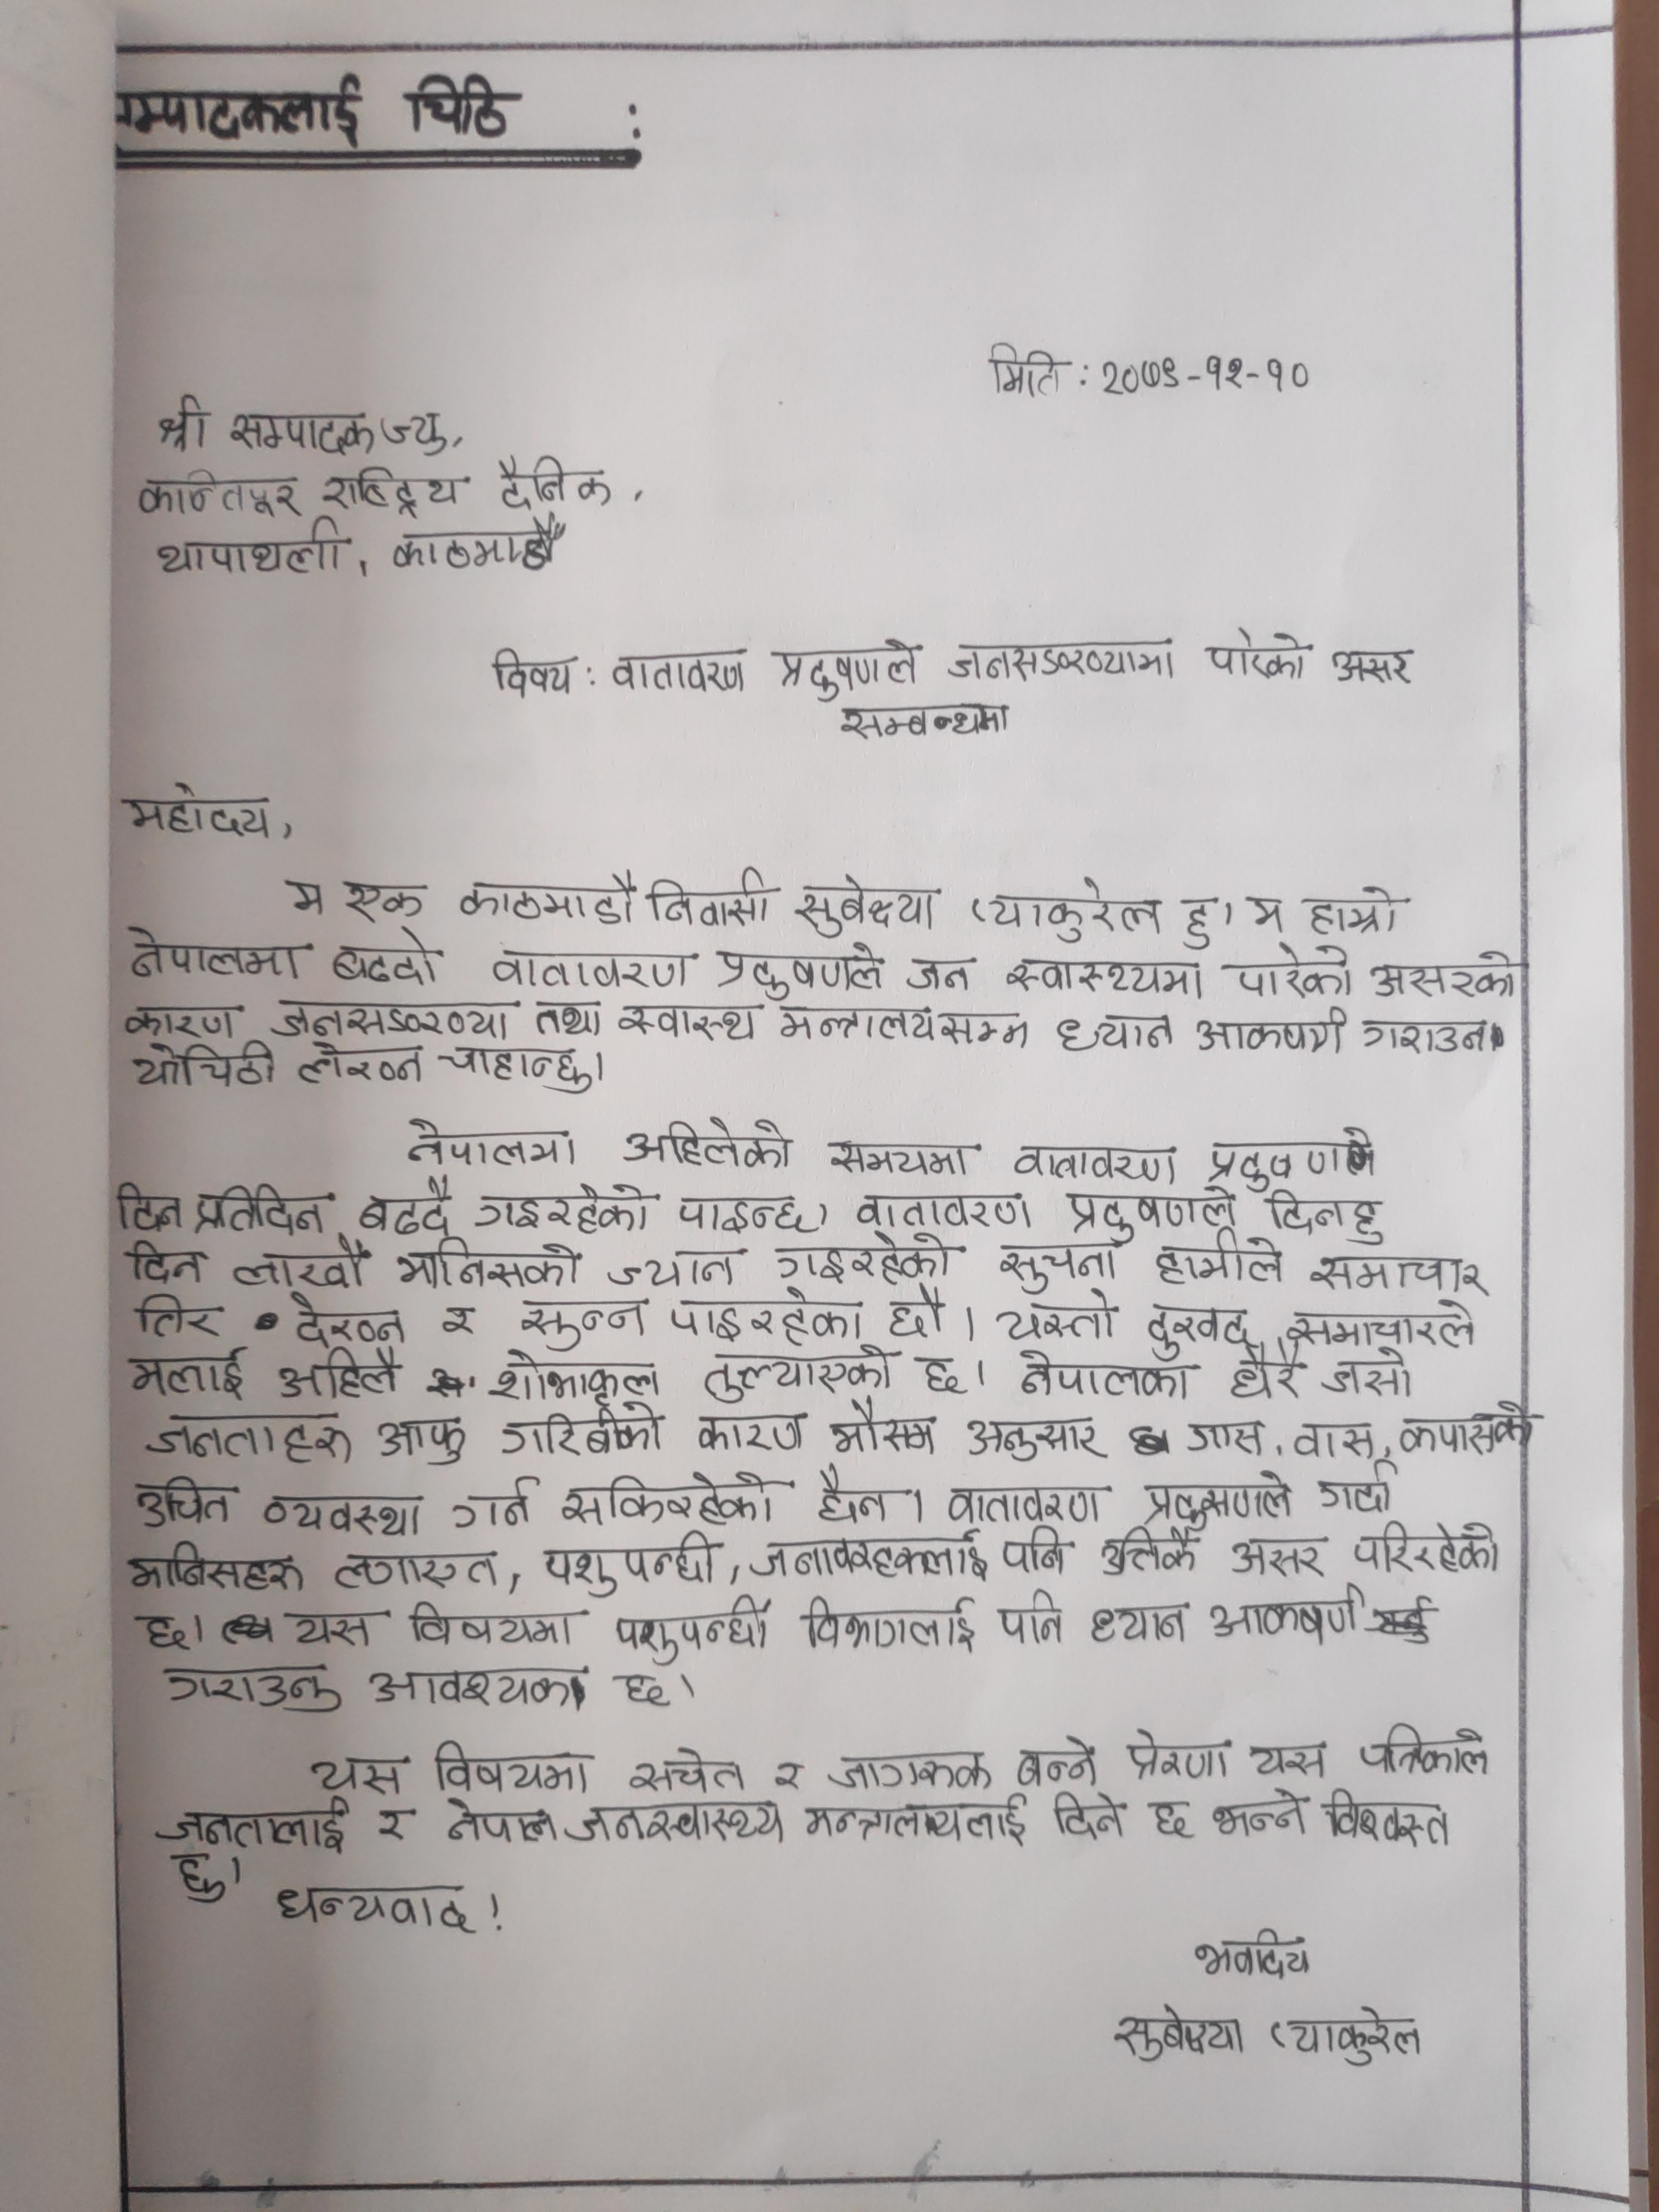chicken noodle soup: (106, 71, 366, 146), (964, 878, 1162, 946), (148, 523, 354, 580), (943, 634, 1183, 683), (389, 514, 572, 573), (1098, 352, 1310, 401), (457, 873, 641, 928), (793, 874, 941, 941), (120, 784, 277, 845), (770, 636, 922, 698), (223, 408, 383, 465), (399, 68, 526, 139), (138, 470, 303, 523), (835, 697, 1012, 744), (645, 867, 774, 930), (603, 643, 746, 697), (317, 467, 464, 517), (488, 451, 613, 507), (1202, 625, 1309, 683), (1304, 883, 1410, 937), (340, 869, 429, 930), (979, 341, 1066, 401), (488, 648, 579, 700), (153, 390, 216, 458), (1328, 648, 1419, 690), (382, 406, 451, 456), (274, 871, 328, 918), (1180, 890, 1216, 949), (1244, 890, 1290, 930)
text: (558, 1467, 786, 1531), (145, 1789, 354, 1853), (272, 1878, 476, 1942), (138, 1409, 357, 1468), (119, 921, 314, 984), (268, 995, 519, 1043), (751, 1533, 993, 1583), (537, 1533, 721, 1599), (800, 1796, 1033, 1848), (798, 1592, 981, 1658), (155, 1658, 347, 1719), (125, 1538, 310, 1599), (714, 939, 889, 1003), (1265, 2003, 1425, 2073), (565, 1799, 791, 1848), (1204, 1127, 1380, 1190), (610, 1597, 770, 1665), (667, 1289, 868, 1343), (1007, 1348, 1195, 1406), (472, 1179, 657, 1237), (364, 1663, 586, 1710), (491, 1400, 666, 1460), (1284, 1298, 1478, 1350), (483, 944, 697, 991), (697, 1348, 896, 1399), (399, 1115, 584, 1169), (770, 1233, 951, 1287), (432, 1040, 596, 1099), (1347, 1519, 1506, 1580), (481, 1352, 666, 1404), (1004, 951, 1201, 1000), (429, 1737, 589, 1796), (396, 1238, 582, 1289), (1143, 1468, 1297, 1529), (617, 1118, 796, 1169), (1202, 1590, 1364, 1646), (410, 1597, 580, 1649), (1063, 1190, 1244, 1238), (124, 1040, 279, 1096), (1354, 1719, 1499, 1778), (826, 1743, 995, 1794), (1324, 1787, 1459, 1850), (1194, 1005, 1352, 1057), (993, 1235, 1129, 1296), (1007, 1139, 1183, 1186), (939, 1479, 1105, 1527), (1114, 2005, 1249, 2064), (1366, 949, 1525, 1000), (519, 1292, 650, 1353), (190, 1183, 336, 1237), (1309, 1249, 1490, 1292), (1258, 1188, 1387, 1249), (824, 1399, 943, 1465), (277, 1291, 413, 1348), (256, 1494, 429, 1540), (1398, 1402, 1539, 1456), (1117, 1724, 1237, 1787), (329, 1550, 502, 1594), (1154, 1231, 1286, 1287), (1190, 1921, 1314, 1980), (1140, 1298, 1258, 1359), (1230, 941, 1356, 998), (852, 1190, 1032, 1230), (279, 1348, 408, 1404), (962, 1418, 1108, 1467), (993, 1291, 1119, 1346), (125, 1346, 251, 1402), (826, 1134, 979, 1179), (439, 1789, 561, 1844), (627, 1745, 751, 1799), (331, 925, 439, 986), (232, 1245, 371, 1292), (605, 1247, 748, 1292), (295, 1042, 429, 1089), (359, 1172, 457, 1237), (615, 1000, 758, 1043), (132, 1475, 242, 1531), (674, 1195, 809, 1238), (777, 1005, 936, 1042), (1211, 1787, 1314, 1843), (1359, 1012, 1490, 1055), (695, 1409, 807, 1460), (1094, 1529, 1204, 1580), (1223, 1534, 1331, 1585), (1054, 1010, 1176, 1054), (448, 1474, 538, 1531), (809, 1467, 894, 1527), (1082, 1601, 1192, 1648), (129, 1289, 227, 1339), (995, 1587, 1068, 1653), (1323, 1348, 1420, 1397), (122, 1000, 244, 1038), (119, 1238, 209, 1289), (282, 1609, 383, 1655), (376, 1416, 464, 1468), (1014, 1735, 1101, 1787), (1046, 1785, 1133, 1838), (305, 1756, 410, 1797), (112, 1179, 185, 1238), (1293, 1418, 1380, 1467), (1227, 1350, 1310, 1400), (999, 1524, 1073, 1578), (1244, 1733, 1330, 1780), (164, 1848, 228, 1907), (1312, 1472, 1394, 1517), (938, 1010, 1030, 1050), (885, 1287, 951, 1343), (530, 996, 608, 1040), (129, 1604, 193, 1655), (904, 949, 976, 995), (1182, 1418, 1265, 1454), (917, 1355, 974, 1406), (429, 1299, 488, 1339), (613, 1669, 674, 1707), (1145, 1797, 1195, 1841), (373, 1804, 418, 1839), (767, 1757, 814, 1791)
